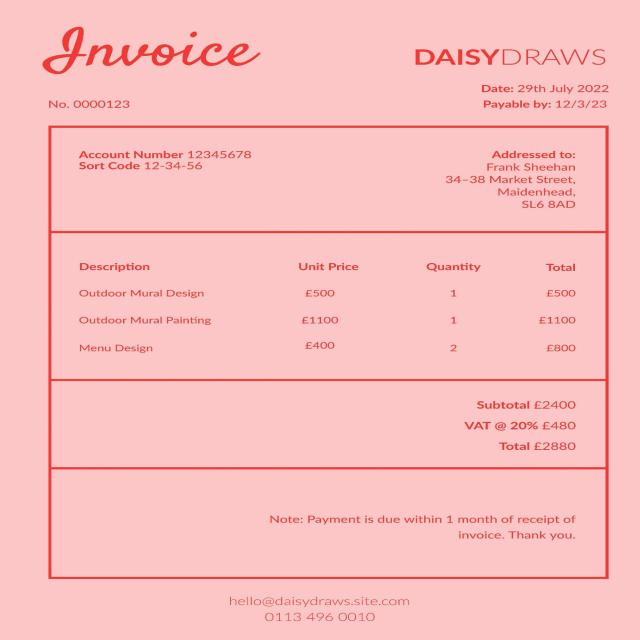paragraph: (262, 501, 593, 551), (36, 20, 270, 82), (439, 144, 588, 218), (59, 135, 268, 183), (454, 392, 590, 458), (222, 586, 423, 630), (402, 41, 619, 77), (475, 80, 627, 116), (34, 92, 139, 116)
table: (66, 238, 591, 368)
